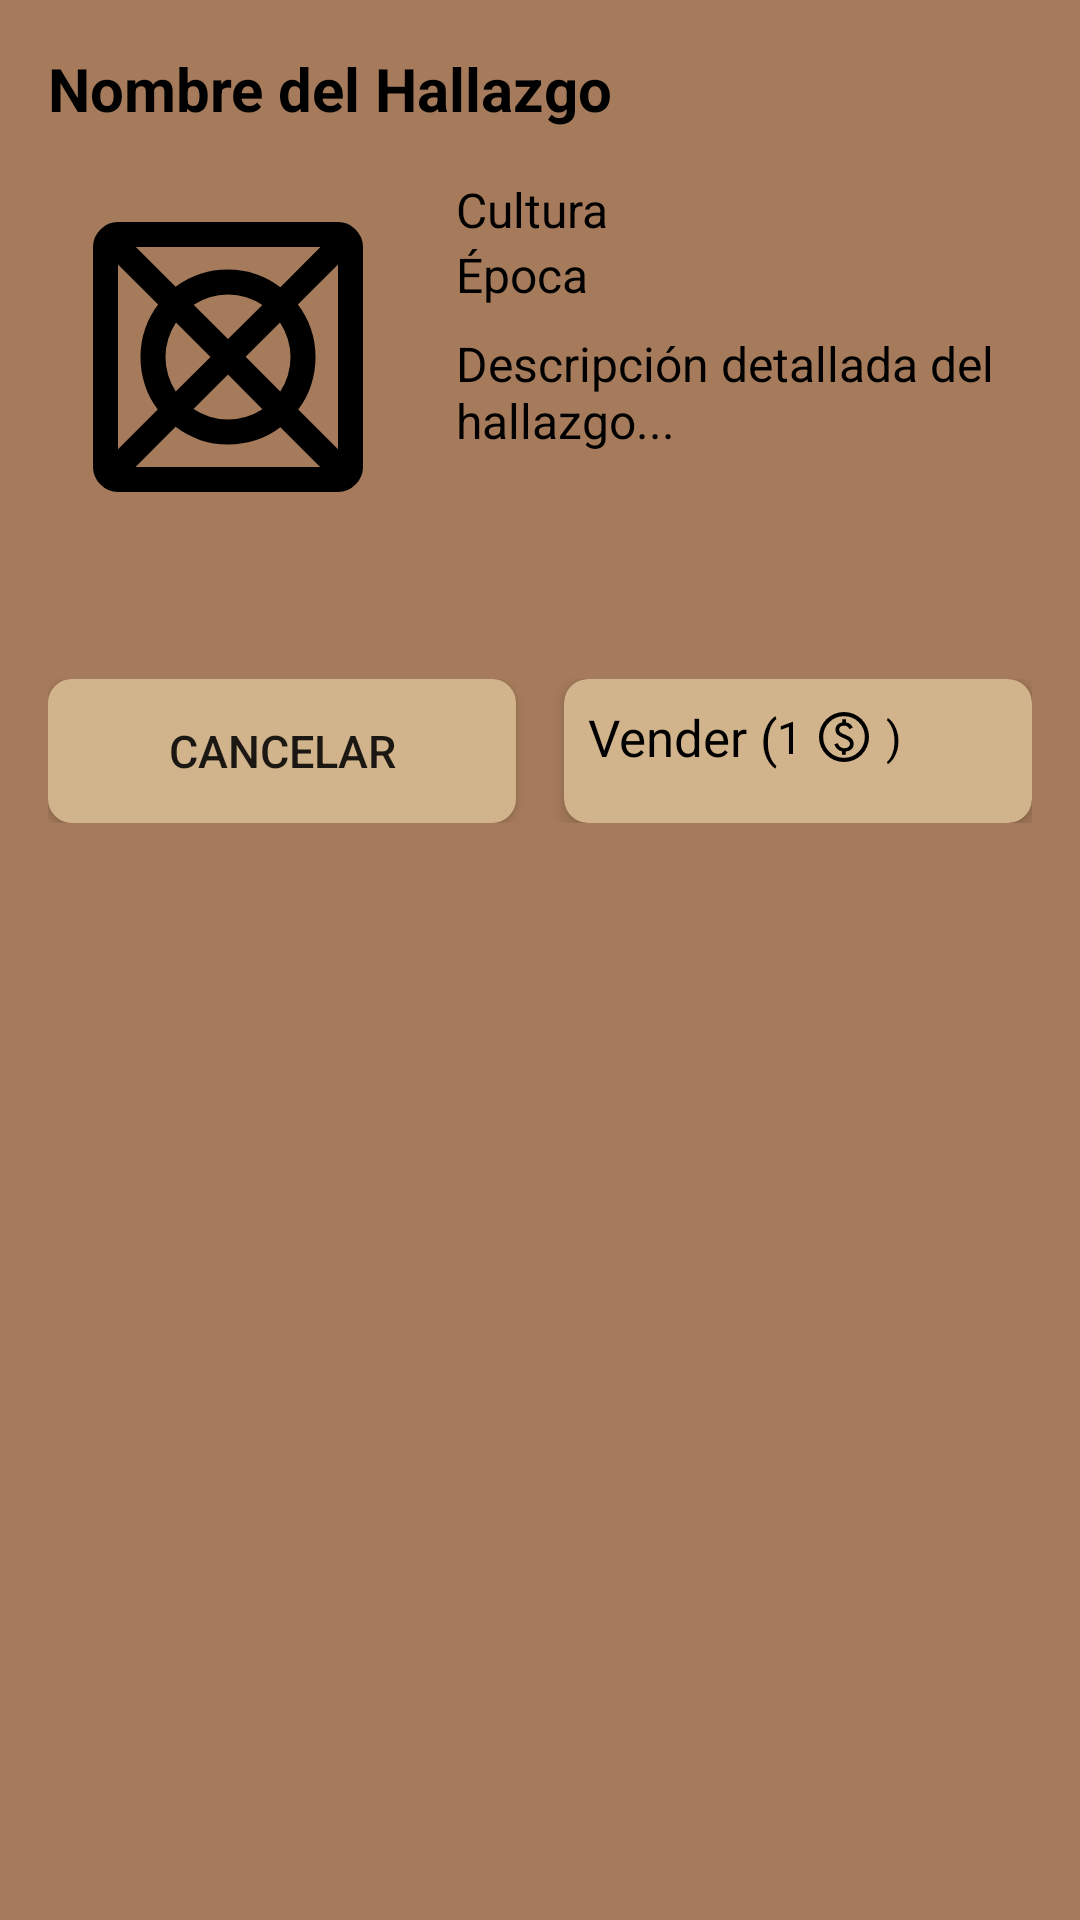

Where to tap for icons on this 1080 × 1920 app screen, as point (x, y):
dinero: point (844, 737)
